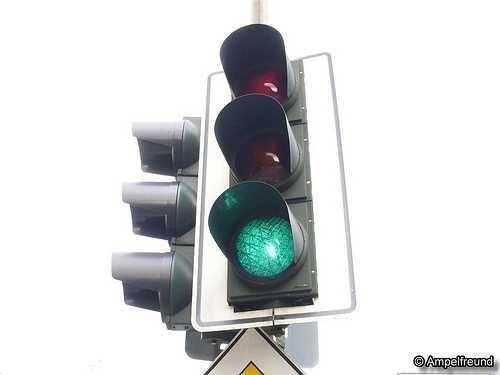2: (216, 40, 321, 305)
3: (220, 110, 300, 193), (218, 34, 300, 112)
red traffic light: (214, 190, 306, 286)
